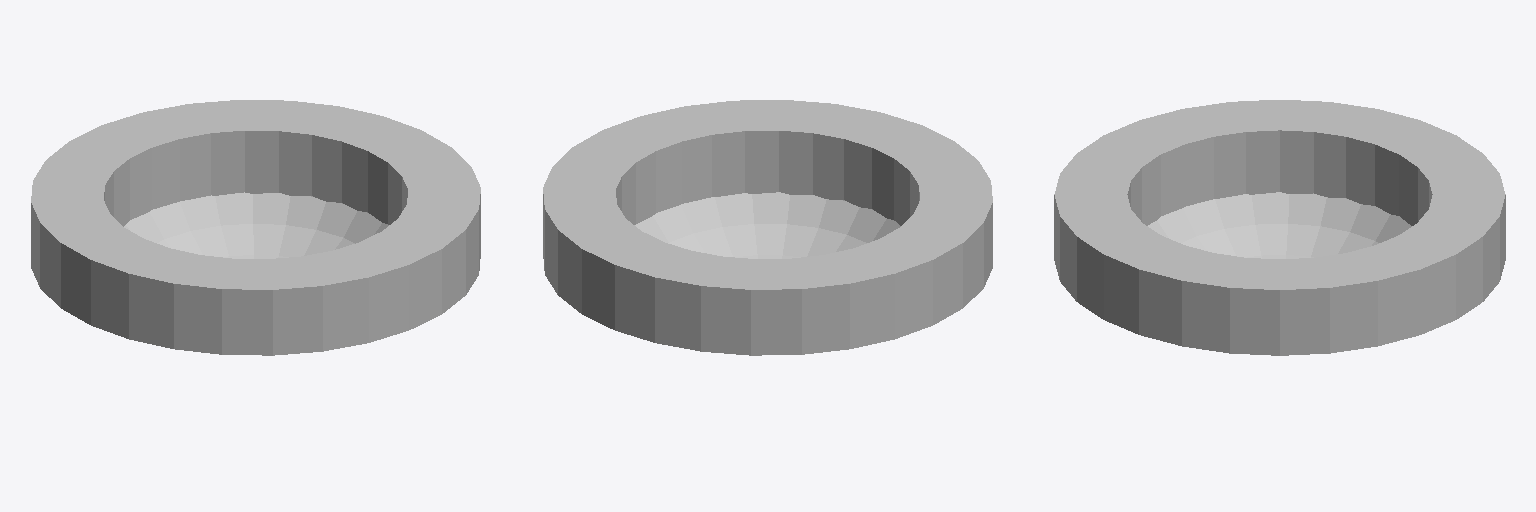
The model's file is LoftLamp.obj.
3 views of the same model, side by side, from view 1: azimuth 30°, elevation 25°; view 2: azimuth 150°, elevation 25°; view 3: azimuth 270°, elevation 25° (orthographic).
Visible parts, largest first — view 1: Tube001, Sphere003; view 2: Tube001, Sphere003; view 3: Tube001, Sphere003.
Boxes of the visible parts, x1=… form: Tube001: x1=31, y1=100, x2=480, y2=355; Sphere003: x1=124, y1=192, x2=388, y2=258; Tube001: x1=543, y1=100, x2=992, y2=355; Sphere003: x1=635, y1=192, x2=900, y2=258; Tube001: x1=1054, y1=100, x2=1505, y2=355; Sphere003: x1=1148, y1=192, x2=1411, y2=258.
Size of the model in its own units: 159 by 47.6 by 159.